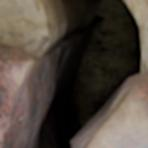broken_brick: (90, 70, 147, 147), (0, 42, 38, 145)
crack: (0, 0, 146, 147)
